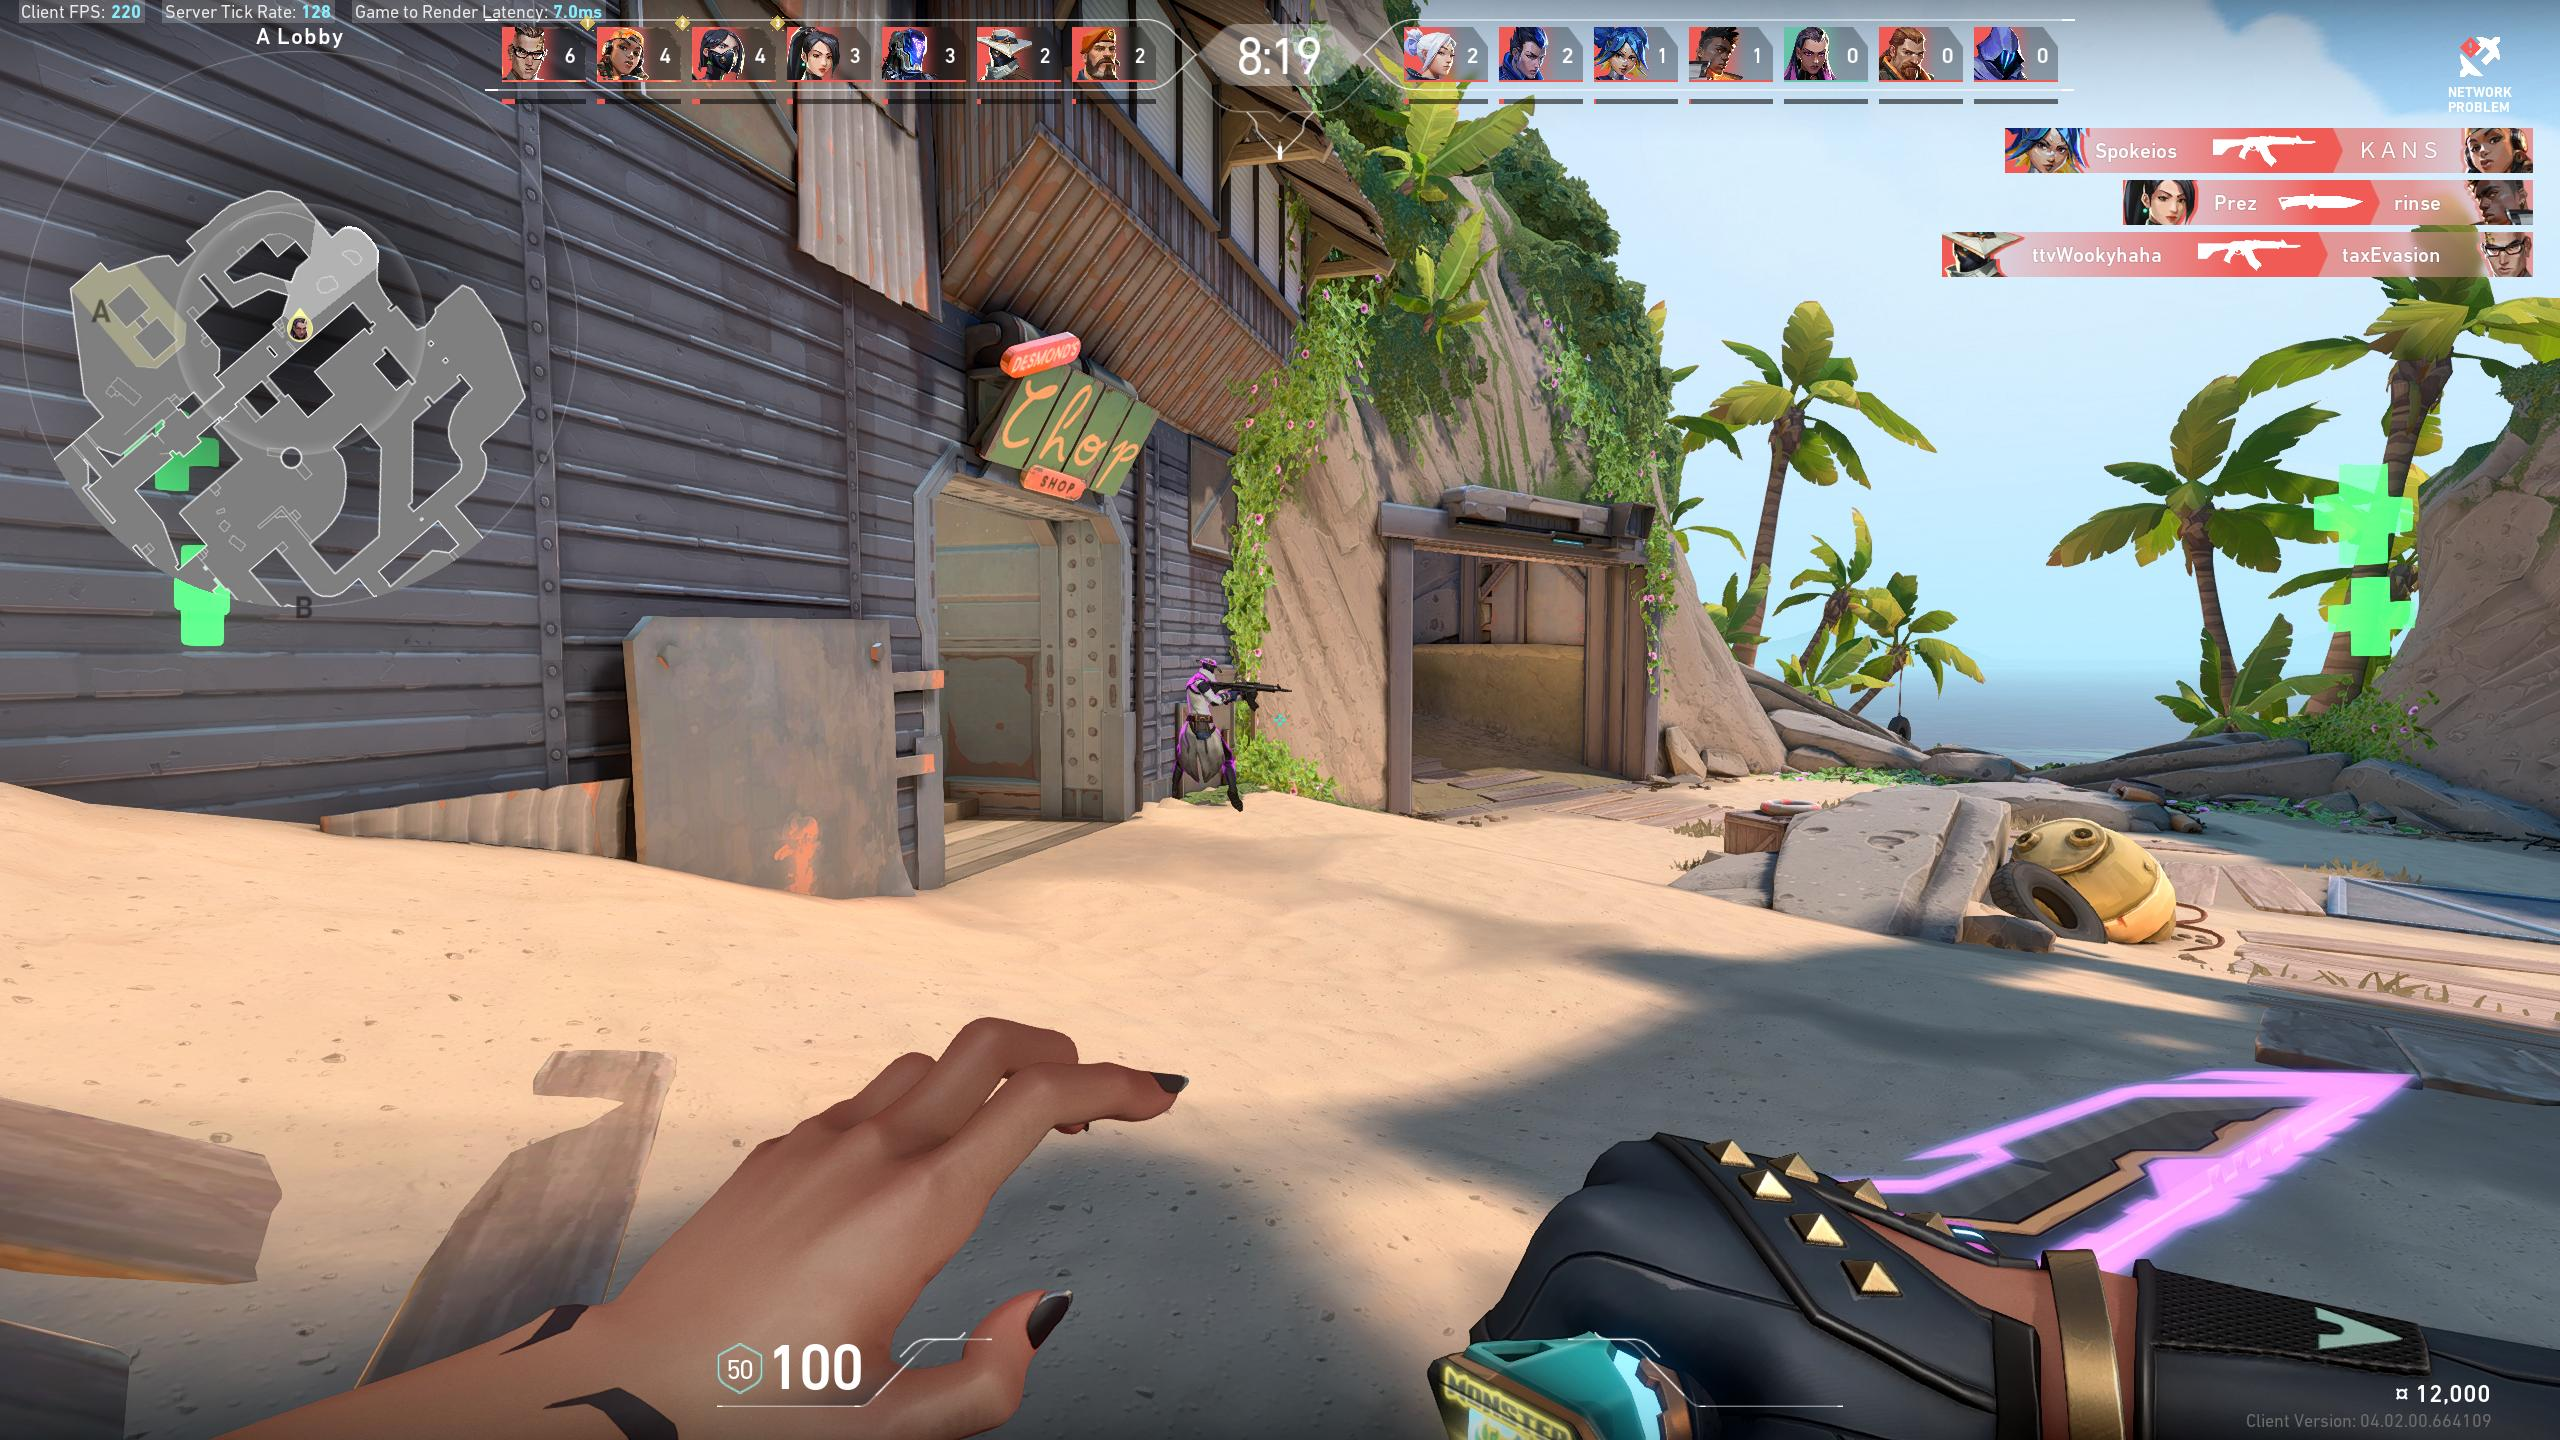enemyBody: (1189, 679, 1210, 721)
enemyHead: (1203, 663, 1213, 673)
